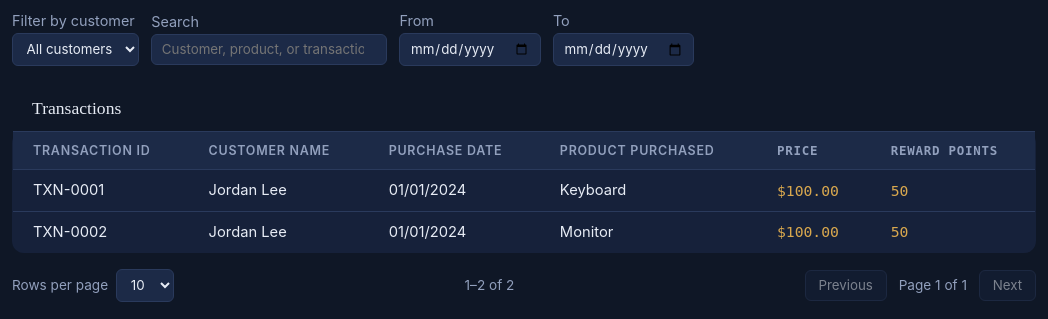
Test: TransactionsTable › filters rows by the search term across product and transaction id
Type "Monitor" into the search field labelled "Search" at point(269, 49), box x1=151 y1=34 x2=387 y2=65
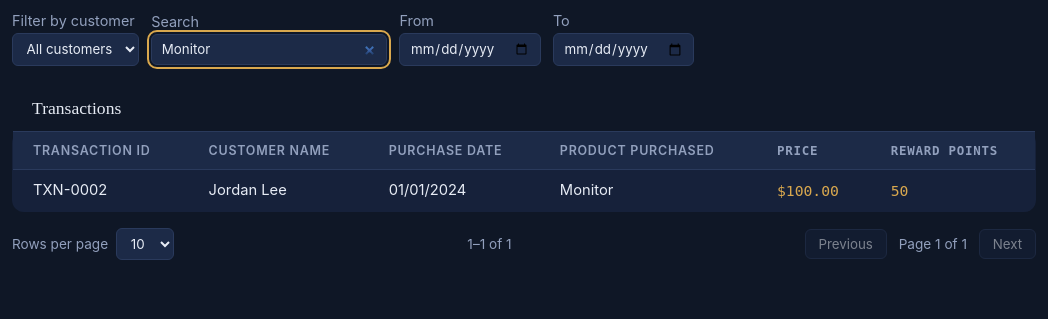
Check: the text "TXN-0002" is shown, box x1=12 y1=170 x2=189 y2=211
Check: the text "TXN-0001" is gone
